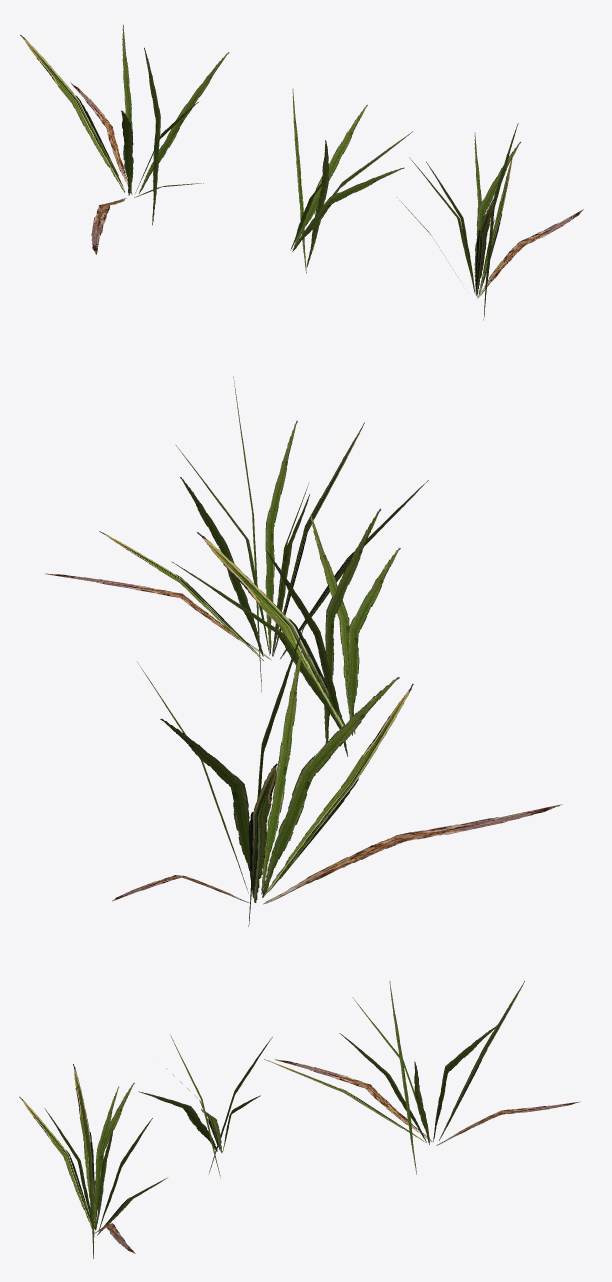
Rendered from NW_NATURE_WATERGRASS_02_100P.glb.
The picture shows the model from 3 angles, top to bottom: view 1: azimuth 30°, elevation 25°; view 2: azimuth 150°, elevation 25°; view 3: azimuth 270°, elevation 25°; orthographic projection. The views are drawn at different scales.
Parts seen in each view (by area): view 1: Mesh; view 2: Mesh; view 3: Mesh.
Boxes of the visible parts, <box> form: Mesh: <box>20,24,583,320</box>; Mesh: <box>44,376,562,926</box>; Mesh: <box>19,980,580,1258</box>.
Bounding box in the file's own units: 7.26 × 3.49 × 8.69.
1 material, 1 textured.
